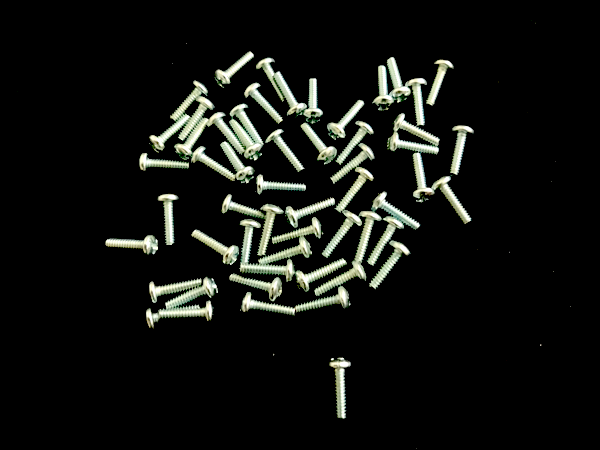shortscrew: (369, 241, 412, 291), (431, 176, 473, 225), (371, 191, 421, 231), (295, 258, 349, 294), (264, 128, 305, 175), (314, 262, 367, 298), (367, 217, 405, 267), (335, 167, 375, 214), (164, 275, 219, 309), (191, 230, 241, 267), (335, 120, 375, 166), (330, 144, 376, 184), (273, 71, 309, 119), (326, 99, 366, 142), (244, 82, 284, 125), (148, 114, 191, 154), (178, 97, 216, 142), (326, 357, 353, 420), (209, 111, 246, 156), (295, 287, 352, 316), (392, 113, 442, 146), (284, 198, 337, 229), (170, 80, 210, 121), (158, 300, 216, 328), (229, 273, 283, 303), (258, 237, 313, 266), (256, 203, 285, 258), (146, 278, 201, 307), (229, 103, 264, 148), (272, 217, 324, 247), (239, 292, 296, 319), (215, 51, 255, 89), (425, 59, 456, 108), (229, 119, 264, 162), (239, 258, 295, 284), (450, 125, 476, 176), (387, 132, 440, 157), (219, 195, 265, 222), (411, 153, 436, 202), (237, 220, 263, 267), (254, 174, 307, 197), (106, 235, 159, 257), (387, 58, 412, 104), (140, 152, 190, 175), (406, 78, 428, 128), (160, 193, 180, 248), (373, 65, 395, 112), (304, 78, 324, 125)
